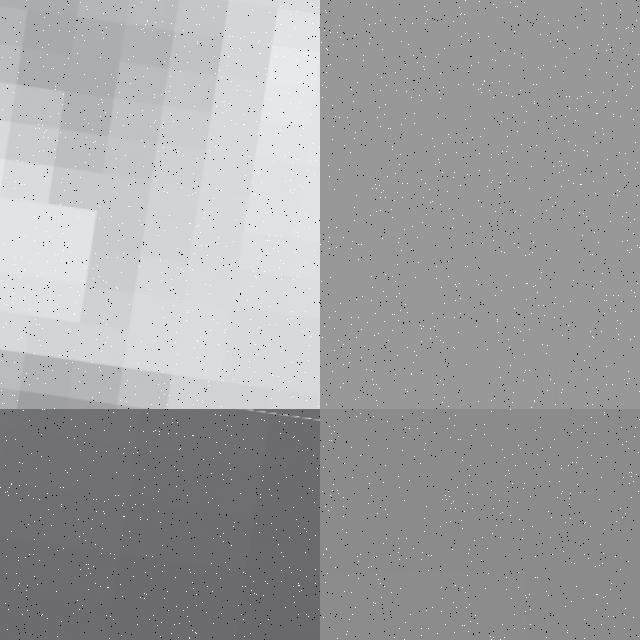drone: (0, 0, 320, 409), (0, 409, 320, 640)
